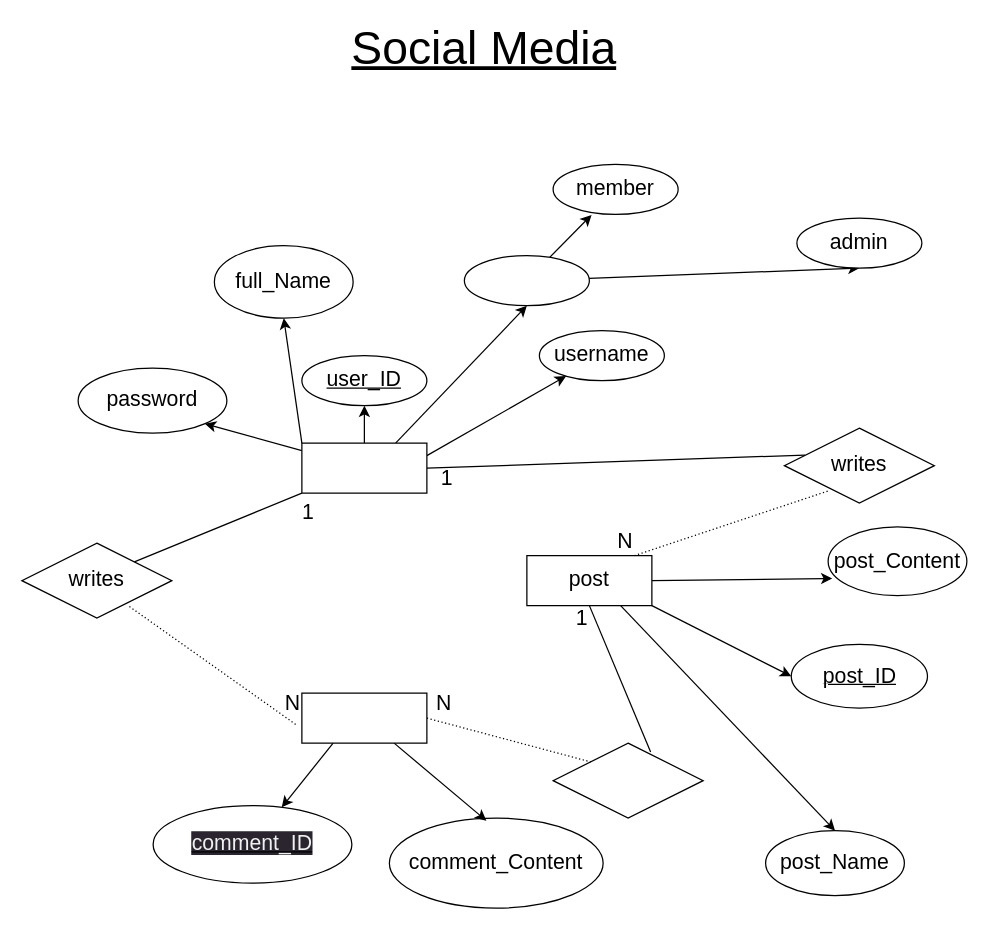
This 989x930 diagram has some shape labels left out. Each missing label, with the centre of its shape:
comment: point 364,717
has: point 627,780
role: point 526,280
user: point 364,467
